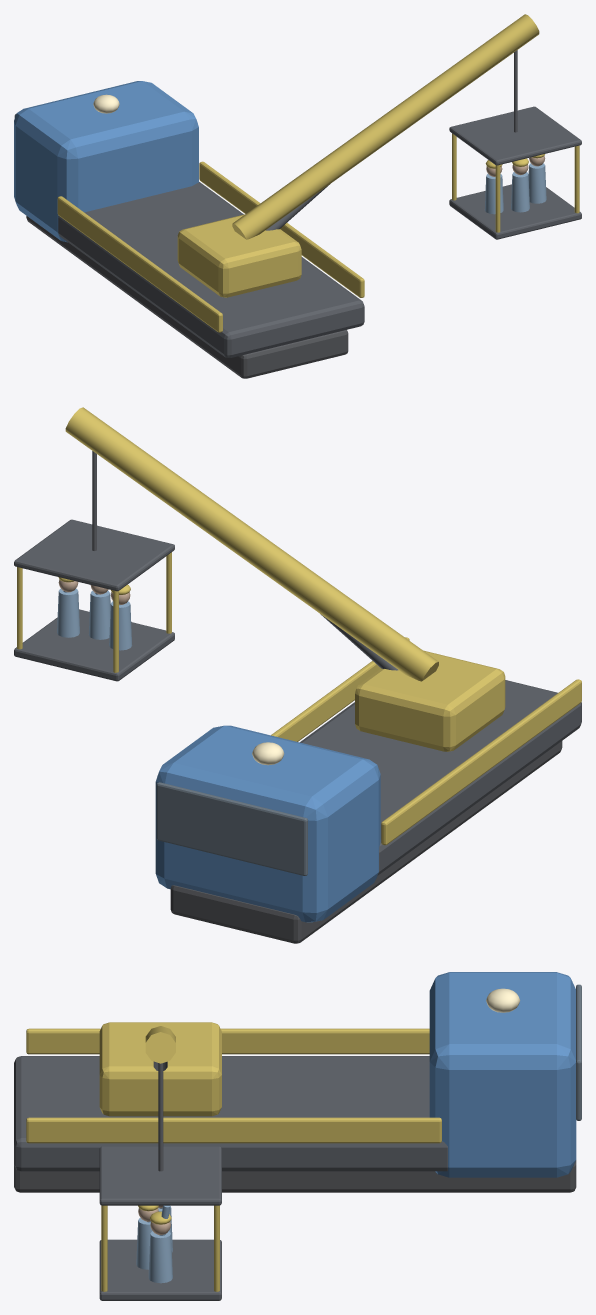
The model's file is rig_truck.glb.
The picture shows the model from 3 angles, top to bottom: view 1: azimuth 30°, elevation 25°; view 2: azimuth 150°, elevation 25°; view 3: azimuth 270°, elevation 25°; orthographic projection. The views are drawn at different scales.
Visible parts, largest first — view 1: rig_truck_Palette; view 2: rig_truck_Palette; view 3: rig_truck_Palette, rig_truck_Glow.
Boxes of the visible parts, x1,y1,x2,y2 form: rig_truck_Palette: (14,14,581,378); rig_truck_Palette: (14,407,581,943); rig_truck_Palette: (14,972,581,1300); rig_truck_Glow: (486,988,520,1012).
Size of the model in its own units: 4.76 by 2.8 by 4.64.
